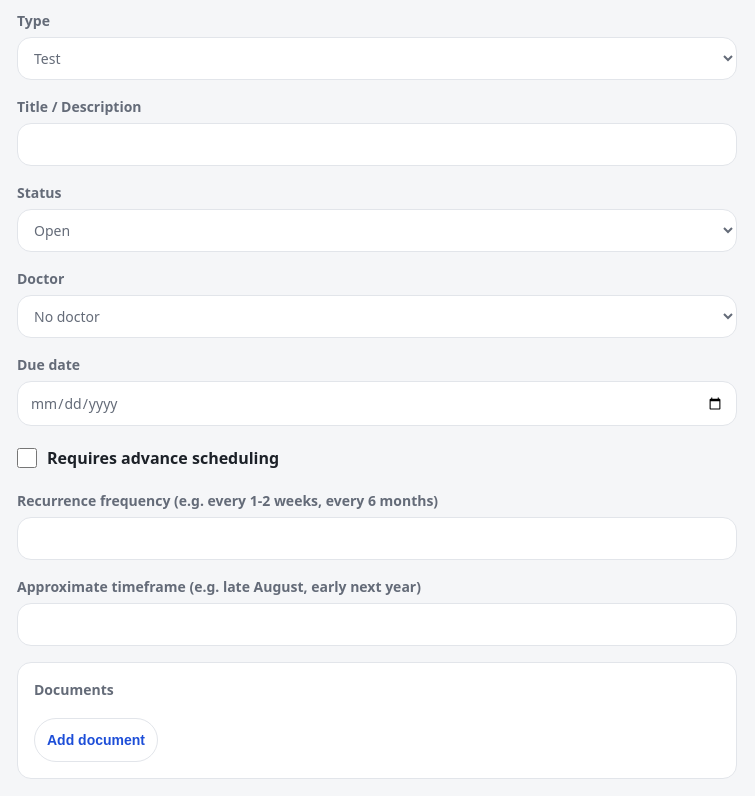
Test: TaskFormScreen › duplicate warning (issue #12) › dismisses the warning without requiring any confirmation step
Select "Dr. Jane Smith (Cardiology)" in the dropdown labelled "Doctor" at (377, 316), box [17,295,737,338]
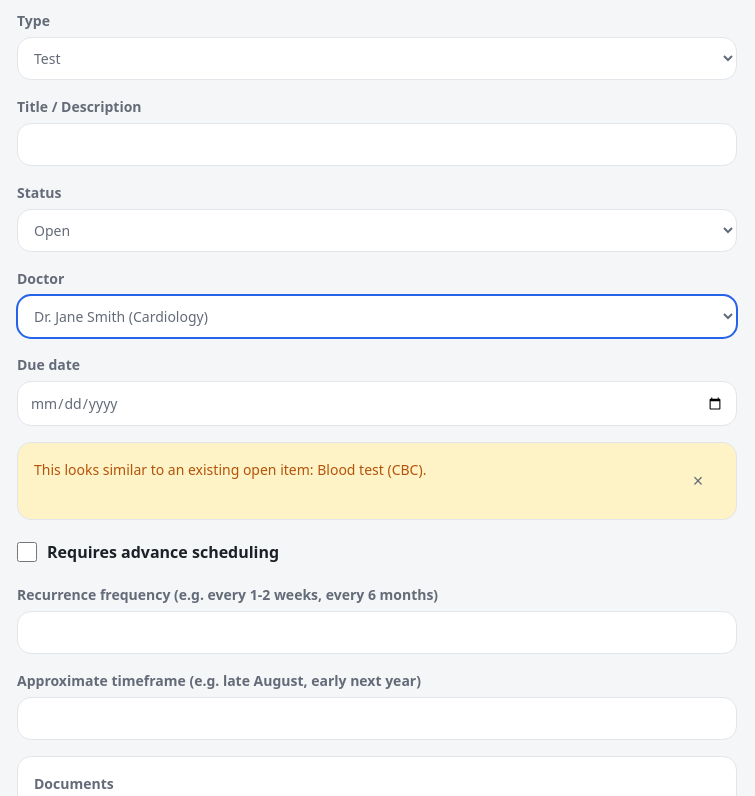
Expected: the text "looks similar to an existing open item" is shown, [34,460,426,479]
Click the button named "Dismiss".
click(698, 481)  # box [676,459,720,503]
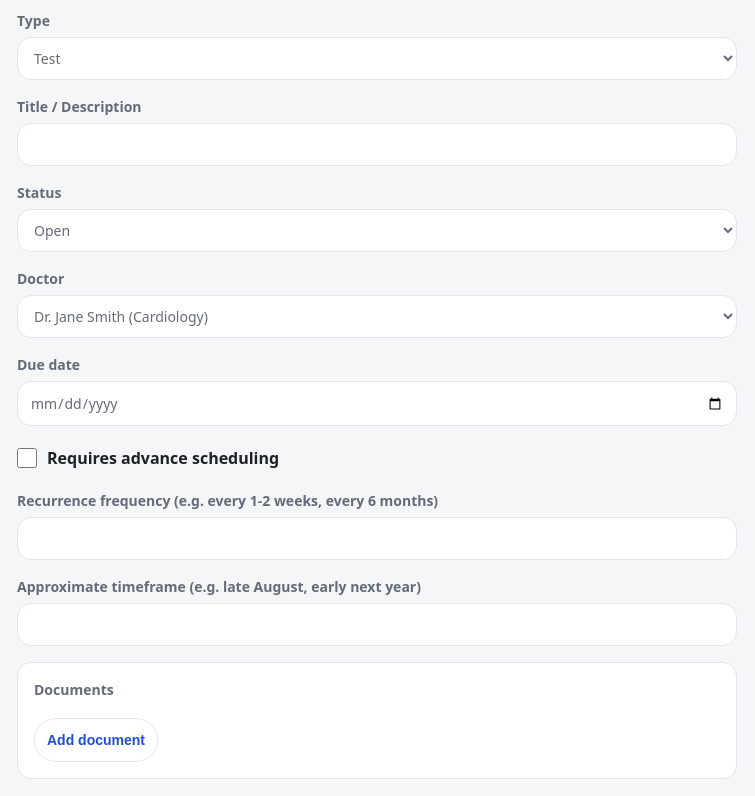
Expected: the text "looks similar to an existing open item" is gone
